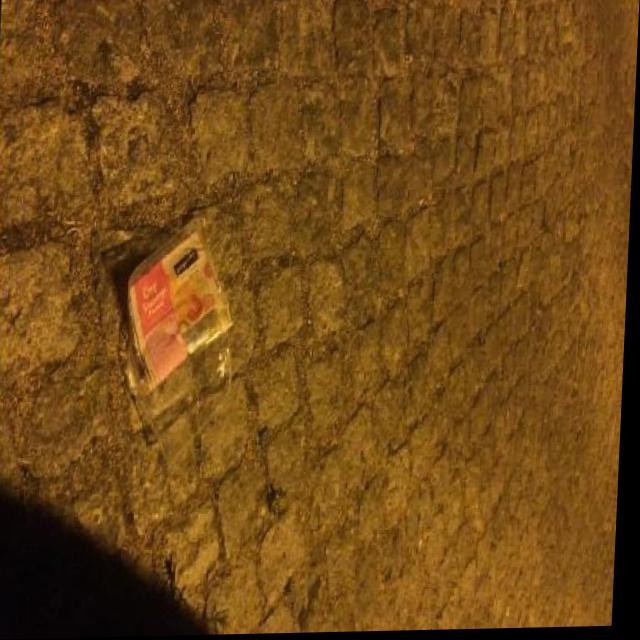plastic: (112, 219, 237, 465)
